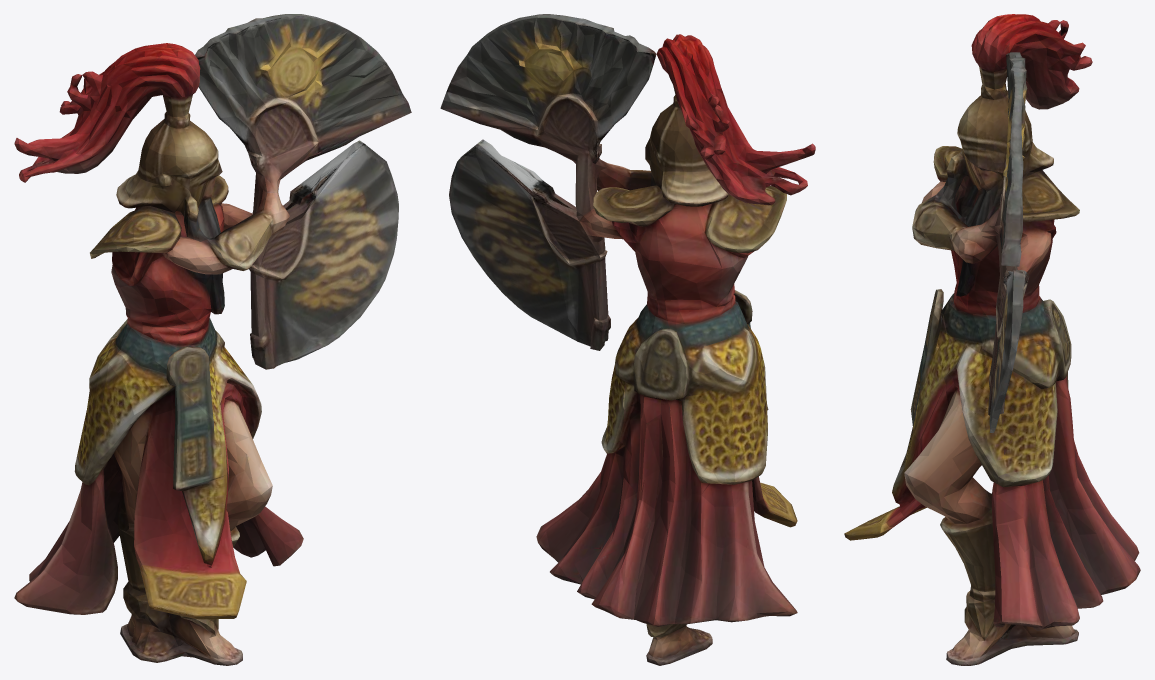
File: warFanDancer.glb
3 views of the same model, side by side, from view 1: azimuth 30°, elevation 25°; view 2: azimuth 150°, elevation 25°; view 3: azimuth 270°, elevation 25° (orthographic). The views are drawn at different scales.
Parts seen in each view (by area): view 1: world; view 2: world; view 3: world.
Boxes of the visible parts, box(x1,y1,x2,y2) form: world: box(14, 14, 411, 665); world: box(440, 14, 815, 665); world: box(844, 14, 1140, 665).
Size of the model in its own units: 0.6657 by 0.9999 by 0.4337.
1 material, 1 textured.
